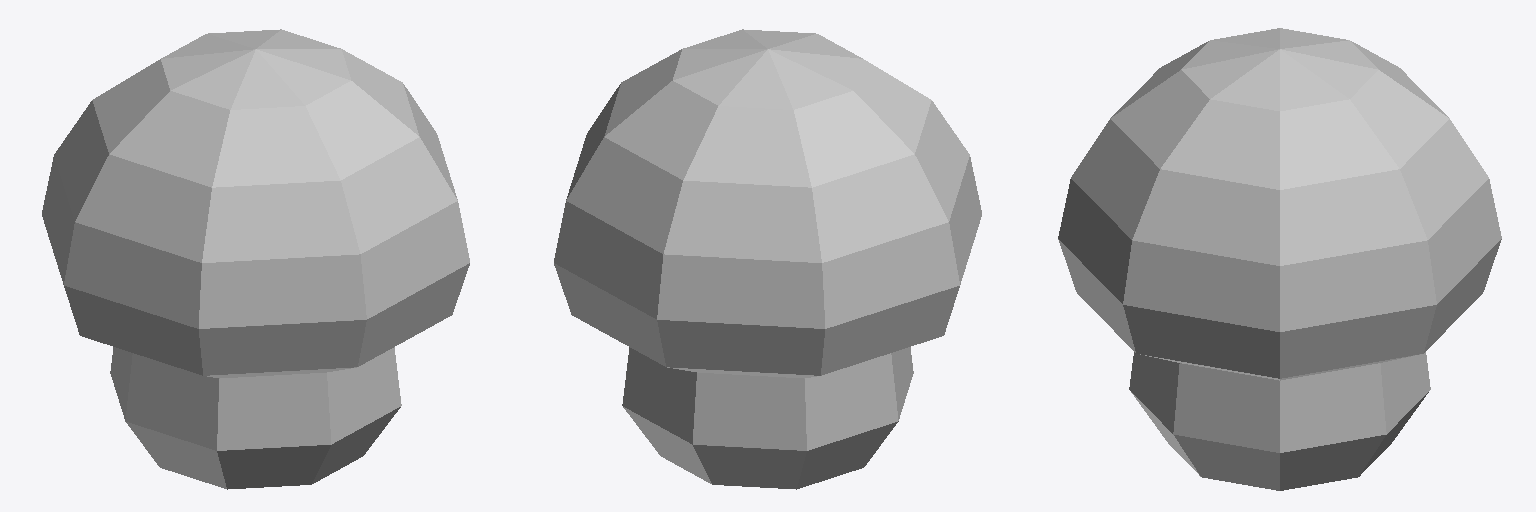
Rendered from Mushroom.obj.
The picture shows the model from 3 angles: view 1: azimuth 30°, elevation 25°; view 2: azimuth 150°, elevation 25°; view 3: azimuth 270°, elevation 25°; orthographic projection.
Parts seen in each view (by area): view 1: n0b0_n0b0.005; view 2: n0b0_n0b0.005; view 3: n0b0_n0b0.005.
Boxes of the visible parts, <box> form: n0b0_n0b0.005: <box>42,29,469,489</box>; n0b0_n0b0.005: <box>554,29,981,489</box>; n0b0_n0b0.005: <box>1058,28,1501,490</box>.
Bounding box in the file's own units: 5 × 5.13 × 5.